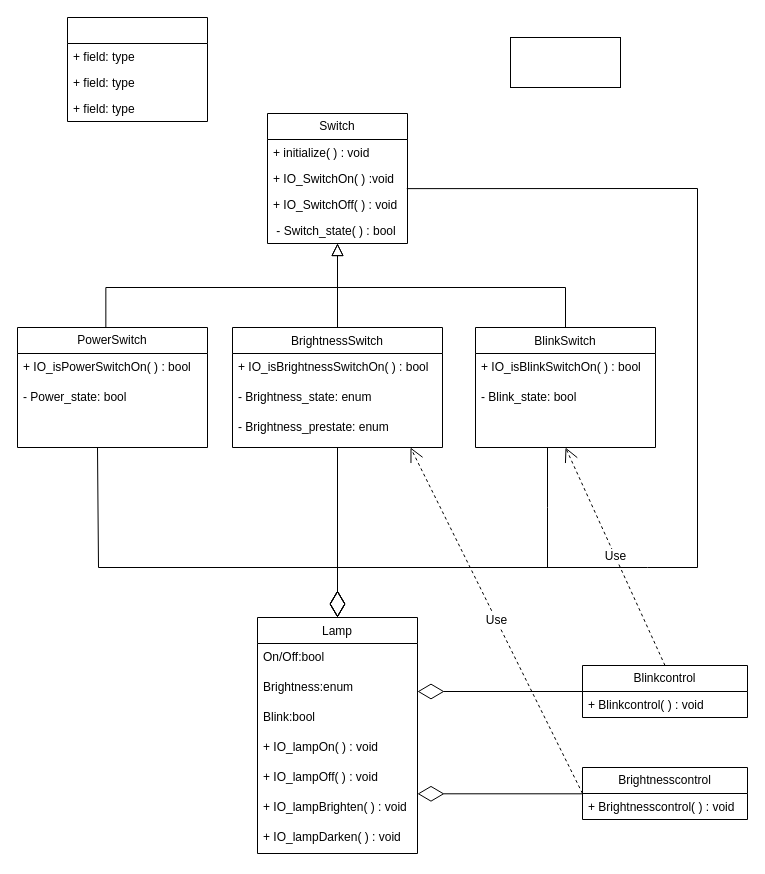
The diagram is 765 pixels wide and 874 high, and some of its shapes have lost their labels. The box of each missing label's shape, as (x1, y1, x2, y2) in pixels:
main: (66, 16, 208, 122)
«interface» Name: (510, 36, 620, 88)
